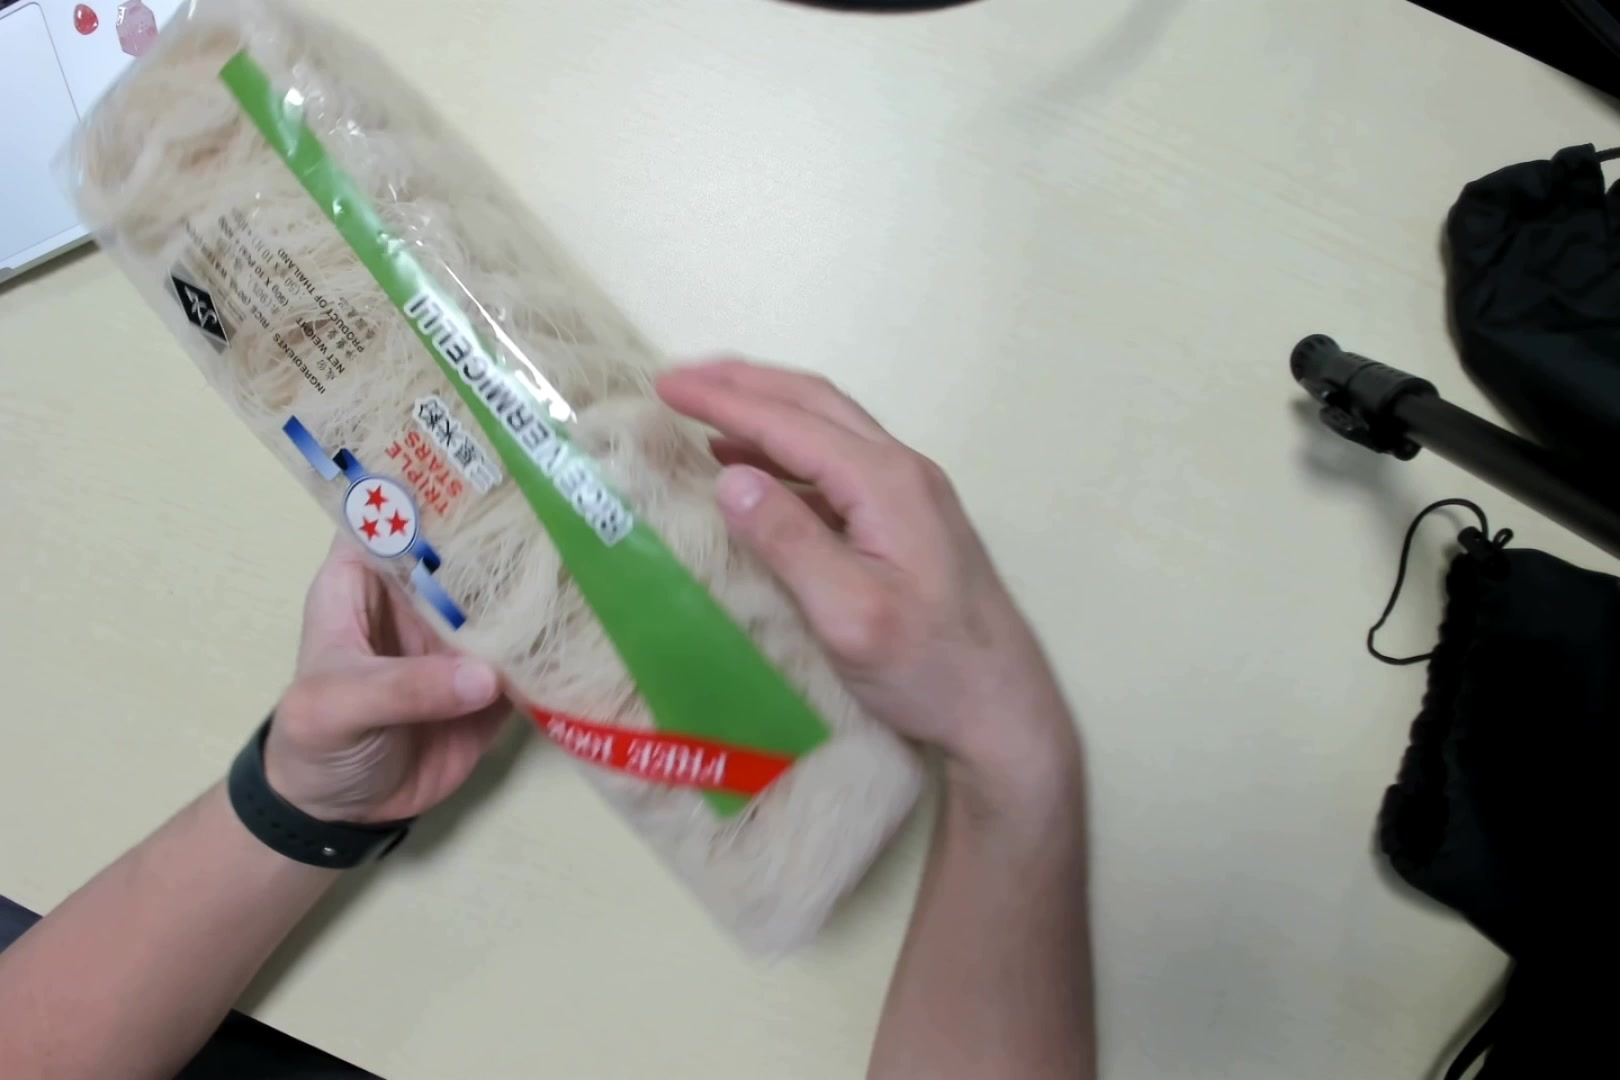BeeHoonVermicelliMeeSua_600-699g_Halal_NonHealthy: (74, 10, 932, 968)
